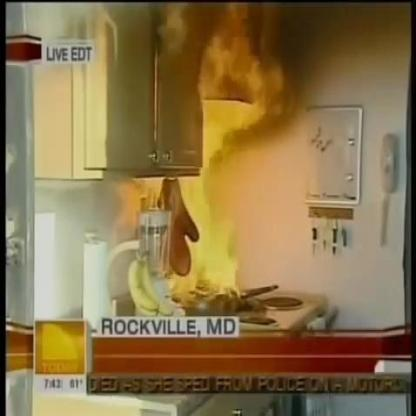fire: (150, 5, 278, 305)
